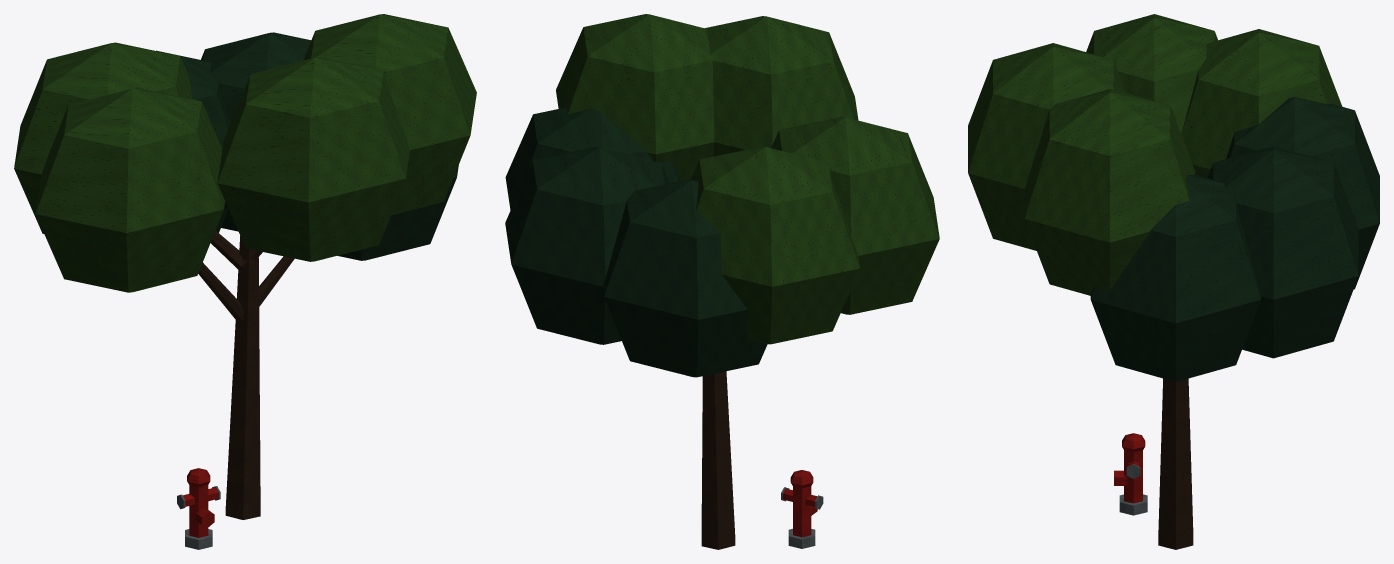
Rendered from PROP-ED73F6D75EF1_lod2.glb.
3 renders of one model, left to right at view 1: azimuth 30°, elevation 25°; view 2: azimuth 150°, elevation 25°; view 3: azimuth 270°, elevation 25°, orthographic. The views are drawn at different scales.
Parts seen in each view (by area): view 1: leaf_crown.084, leaf_crown.083, trunk.075, branch.047, hydrant_barrel.001; view 2: leaf_crown.084, leaf_crown.083, trunk.075, hydrant_barrel.001; view 3: leaf_crown.084, leaf_crown.083, trunk.075, hydrant_barrel.001.
Boxes of the visible parts, x1,y1,x2,y2 form: leaf_crown.084: (14, 14, 476, 292); leaf_crown.083: (156, 32, 458, 260); trunk.075: (225, 236, 260, 519); branch.047: (198, 201, 294, 320); hydrant_barrel.001: (189, 485, 208, 537); leaf_crown.084: (556, 14, 939, 344); leaf_crown.083: (505, 108, 767, 377); trunk.075: (701, 371, 735, 549); hydrant_barrel.001: (793, 486, 811, 537); leaf_crown.084: (968, 14, 1342, 295); leaf_crown.083: (1090, 97, 1379, 381); trunk.075: (1158, 378, 1193, 549); hydrant_barrel.001: (1124, 450, 1142, 503).
Bounding box in the file's own units: 6.03 × 6.52 × 4.87.
5 materials, 5 textured.
